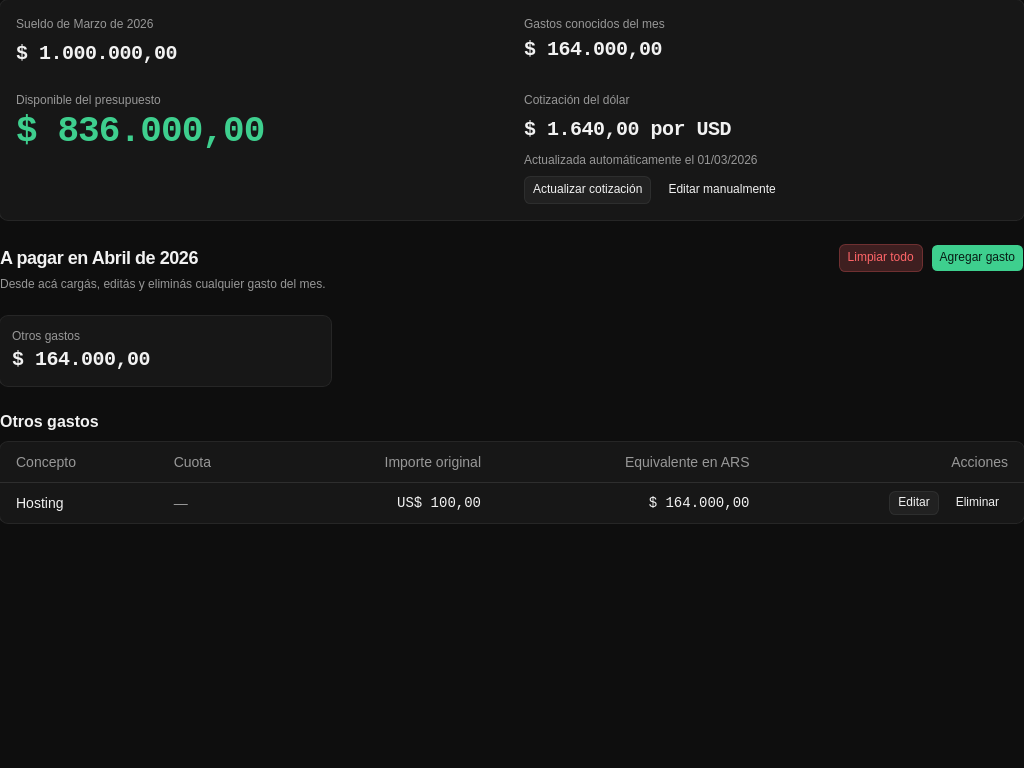
it: MonthlyBudgetPage › cotización del mes › aplica la cotización consultada recién después de confirmar
The image size is (1024, 768).
What coordinates should you click on to do the following:
click the button "Actualizar cotización"
I would click on:
 (588, 190)
Its box is [524,176,651,204].
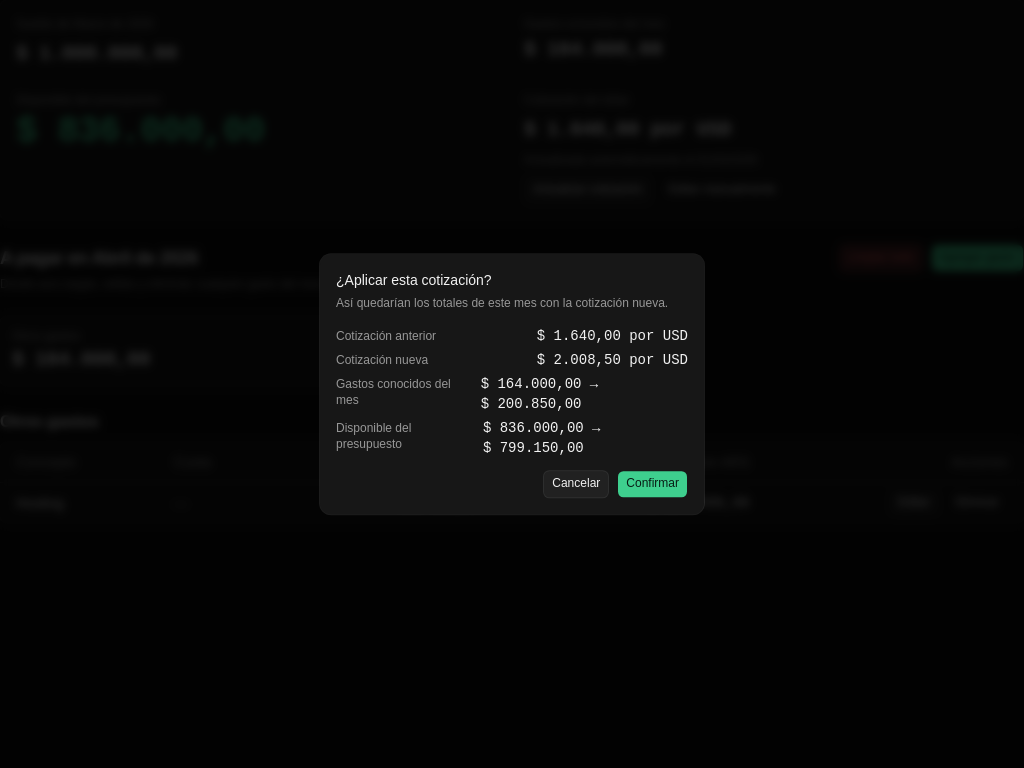
Check: the heading "¿Aplicar esta cotización?" is shown, box [336,270,492,290]
Check: the text "$ 2.008,50 por USD" is shown, box [537,350,688,370]
Check: the text "$ 164.000,00 → $ 200.850,00" is shown, box [481,376,598,412]
What coordinates should you click on to do the following:
click the button "Confirmar"
I would click on:
 (653, 484)
Its box is [617,470,688,498].
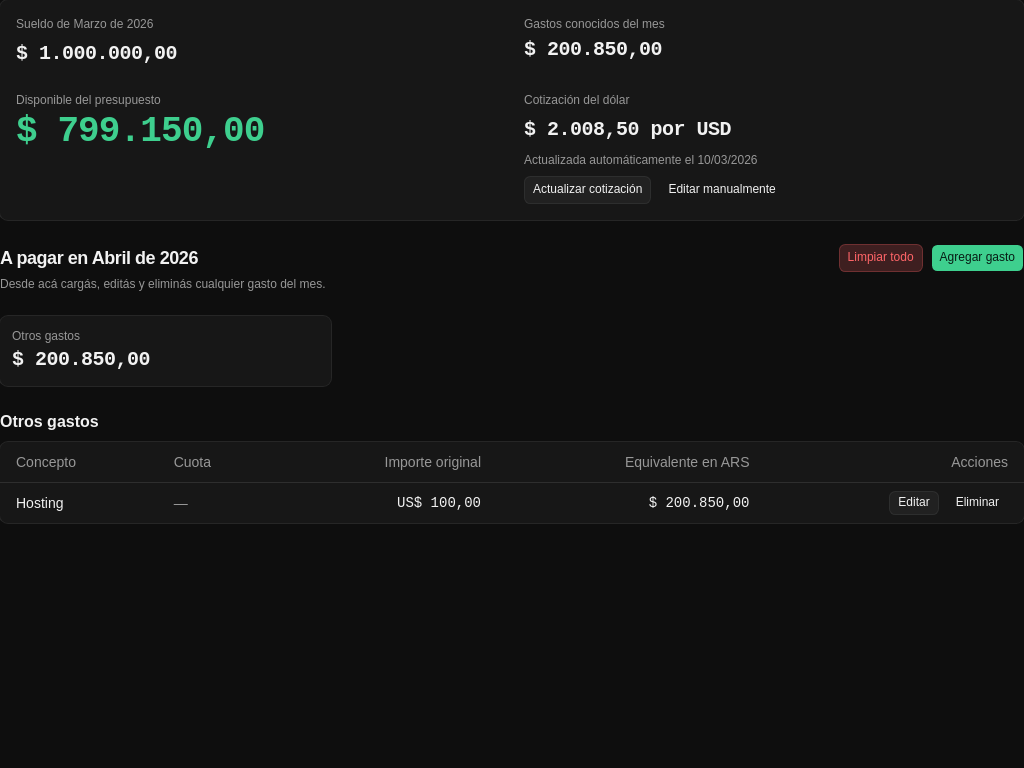
Check: the text "$ 2.008,50 por USD" is shown, box [524,118,731,141]
